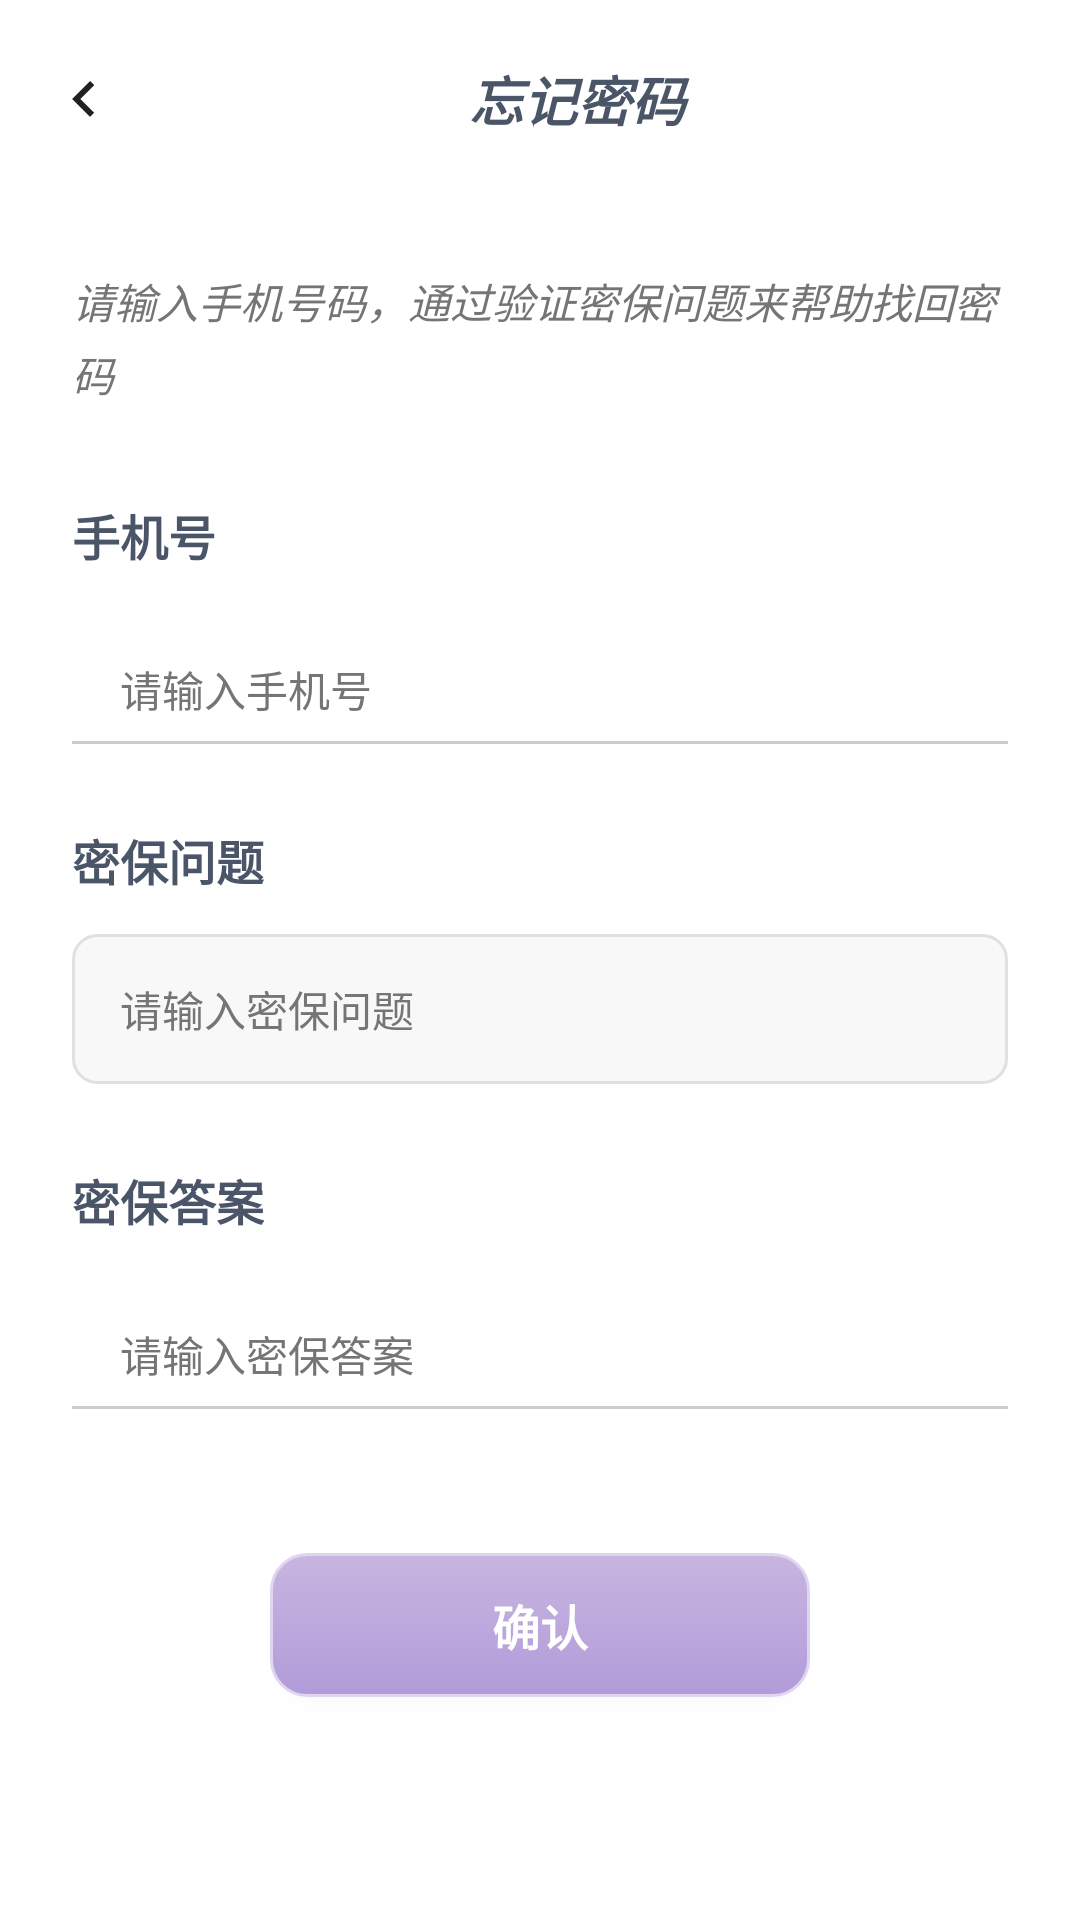

Named icons in this screenshot (1080*1920) and their centers, (x,y):
arrow left: (83,99)
